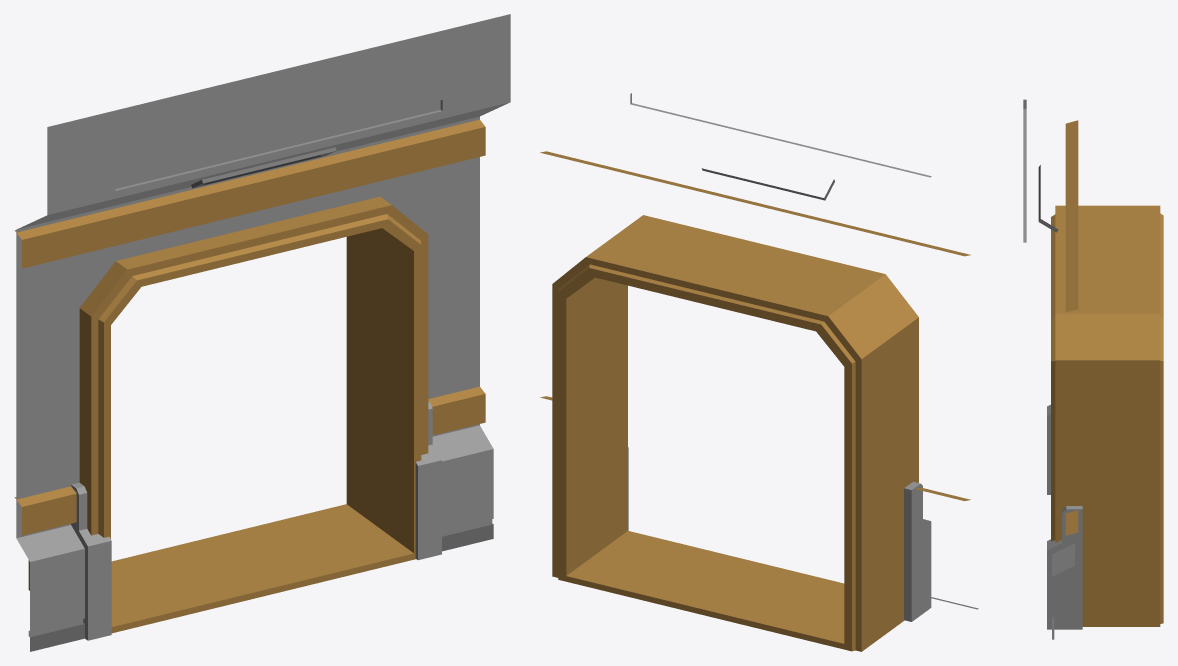
The picture shows the model from 3 angles, left to right: view 1: azimuth 30°, elevation 25°; view 2: azimuth 150°, elevation 25°; view 3: azimuth 270°, elevation 25°; orthographic projection. The views are drawn at different scales.
Visible parts, largest first — view 1: DoorDouble_Wall_SideA; view 2: DoorDouble_Wall_SideA; view 3: DoorDouble_Wall_SideA.
Boxes of the visible parts, bbox=[...] form: DoorDouble_Wall_SideA: bbox=[14, 14, 510, 651]; DoorDouble_Wall_SideA: bbox=[540, 93, 978, 651]; DoorDouble_Wall_SideA: bbox=[1023, 99, 1163, 639].
Size of the model in its own units: 4 by 4.44 by 1.25.
